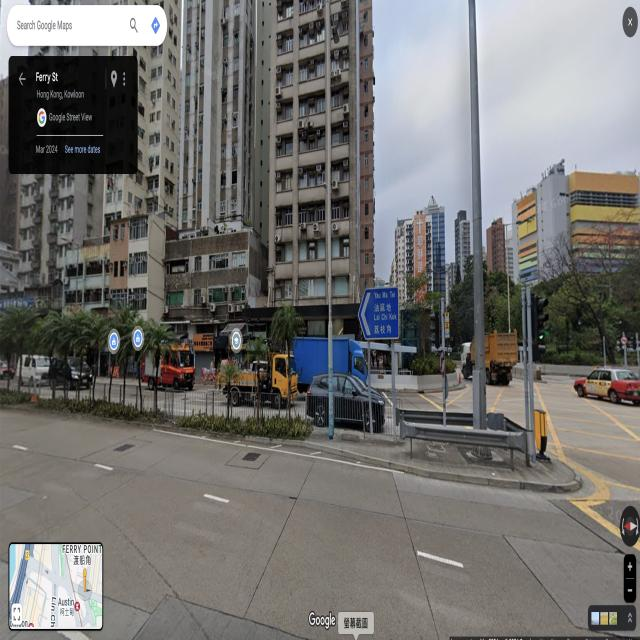Direction-Sign: (357, 285, 399, 341)
Order-Sign: (439, 349, 445, 372), (445, 323, 449, 338), (445, 312, 449, 322)
